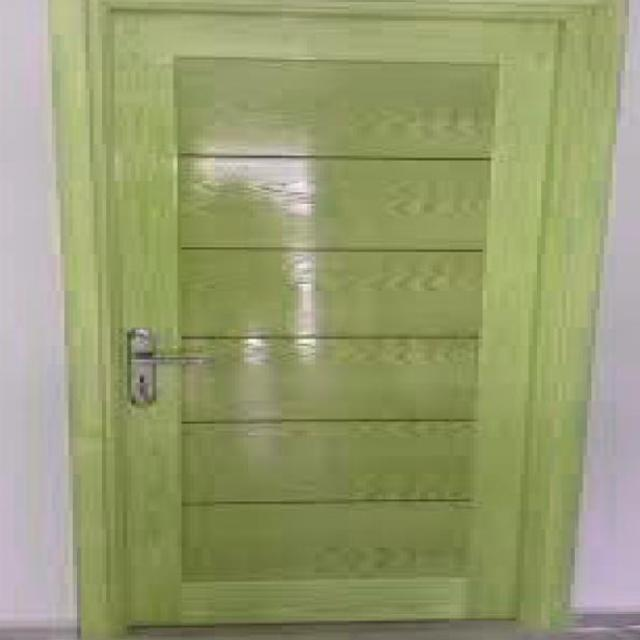door: (48, 0, 630, 638)
